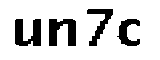7: (81, 2, 116, 51)
c: (117, 17, 145, 48)
n: (47, 16, 78, 51)
u: (11, 16, 43, 52)
